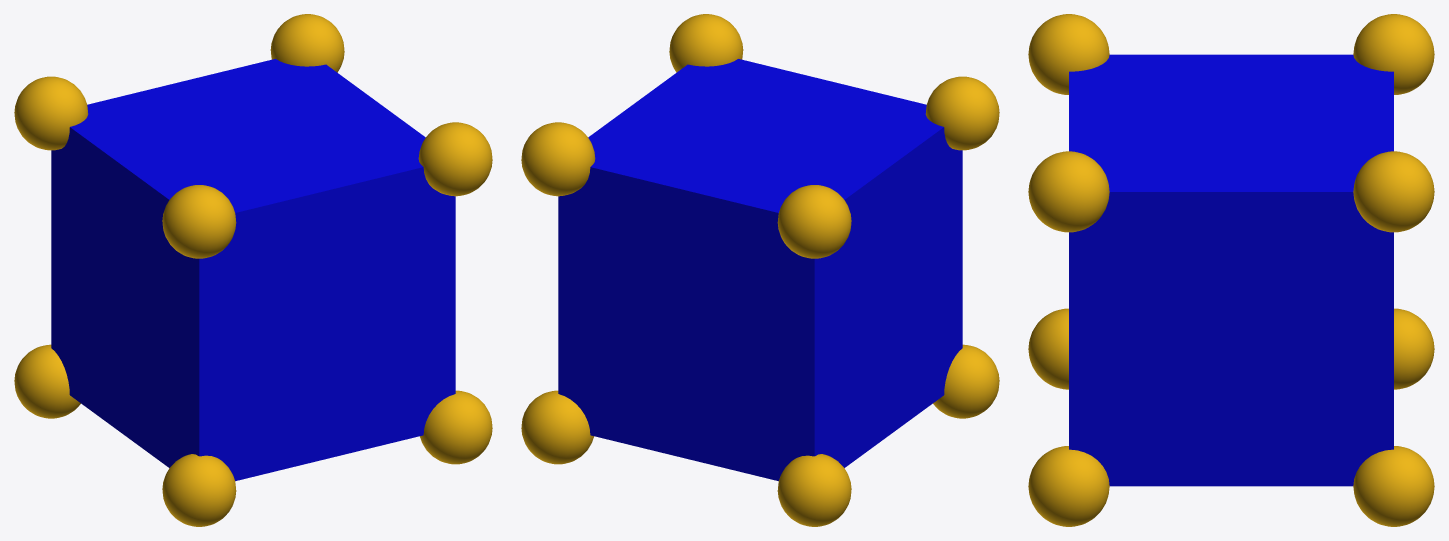
File: CatBody.glb
3 renders of one model, left to right at view 1: azimuth 30°, elevation 25°; view 2: azimuth 150°, elevation 25°; view 3: azimuth 270°, elevation 25°, orthographic. The views are drawn at different scales.
Visible parts, largest first — view 1: Cube, Sphere.001, Sphere.005, Sphere.003, Sphere.002, Sphere.007, Sphere.006, Sphere.004; view 2: Cube, Sphere.002, Sphere.006, Sphere.004, Sphere.001, Sphere.008, Sphere.005, Sphere.003; view 3: Cube, Sphere.003, Sphere.004, Sphere.007, Sphere.008, Sphere.001, Sphere.002, Sphere.005, Sphere.006.
Boxes of the visible parts, bbox=[...] form: Cube: bbox=[51, 59, 455, 480]; Sphere.001: bbox=[162, 185, 236, 258]; Sphere.005: bbox=[162, 454, 236, 526]; Sphere.003: bbox=[418, 122, 492, 196]; Sphere.002: bbox=[14, 76, 88, 150]; Sphere.007: bbox=[420, 390, 492, 464]; Sphere.006: bbox=[14, 344, 80, 418]; Sphere.004: bbox=[270, 14, 344, 72]; Cube: bbox=[558, 59, 962, 480]; Sphere.002: bbox=[777, 185, 851, 258]; Sphere.006: bbox=[777, 454, 851, 526]; Sphere.004: bbox=[521, 122, 595, 196]; Sphere.001: bbox=[925, 76, 999, 150]; Sphere.008: bbox=[521, 390, 593, 464]; Sphere.005: bbox=[933, 344, 999, 418]; Sphere.003: bbox=[669, 14, 743, 72]; Cube: bbox=[1069, 54, 1393, 486]; Sphere.003: bbox=[1028, 151, 1109, 232]; Sphere.004: bbox=[1353, 151, 1434, 232]; Sphere.007: bbox=[1028, 446, 1109, 526]; Sphere.008: bbox=[1353, 446, 1434, 526]; Sphere.001: bbox=[1028, 14, 1109, 94]; Sphere.002: bbox=[1353, 14, 1434, 94]; Sphere.005: bbox=[1028, 308, 1068, 389]; Sphere.006: bbox=[1394, 308, 1434, 389].
Size of the model in its own units: 2.5 by 2.5 by 2.5.
